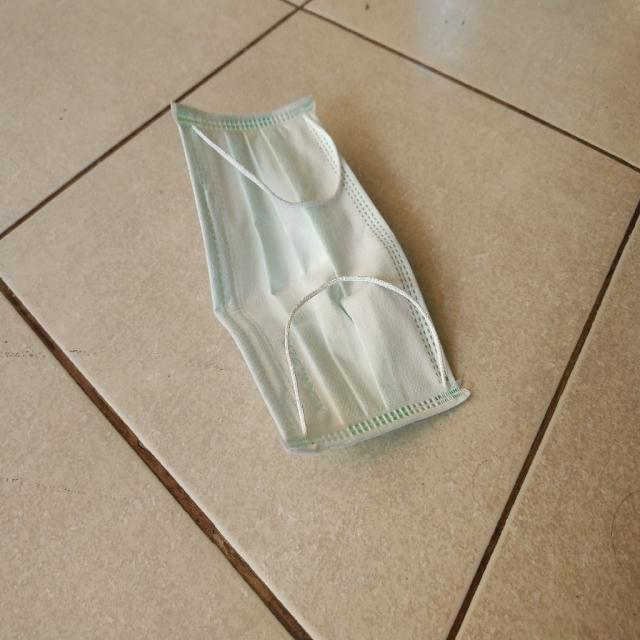face mask: (166, 70, 468, 454)
